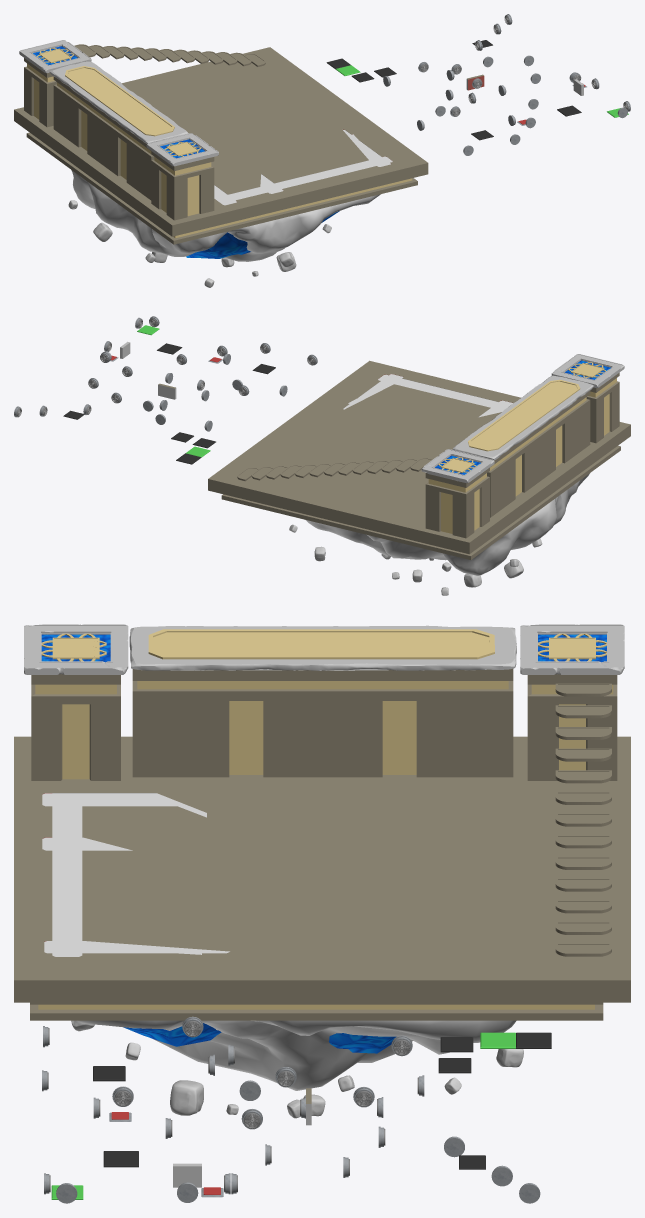
3 renders of one model, top to bottom at view 1: azimuth 30°, elevation 25°; view 2: azimuth 150°, elevation 25°; view 3: azimuth 270°, elevation 25°, orthographic. The views are drawn at different scales.
Parts seen in each view (by area): view 1: Cube.344_dmg.025, Cube.205_dmg.001, Cube.344_dmg.039, Cube.344_dmg.254; view 2: Cube.344_dmg.025, Cube.205_dmg.001, Cube.344_dmg.039, Cube.344_dmg.254; view 3: Cube.344_dmg.025, Cube.205_dmg.001, Cube.344_dmg.039, Cube.344_dmg.254.
Boxes of the visible parts, x1=… form: Cube.344_dmg.025: x1=14, y1=47, x2=428, y2=287; Cube.205_dmg.001: x1=19, y1=40, x2=218, y2=220; Cube.344_dmg.039: x1=74, y1=44, x2=265, y2=66; Cube.344_dmg.254: x1=214, y1=130, x2=392, y2=205; Cube.344_dmg.025: x1=208, y1=360, x2=630, y2=595; Cube.205_dmg.001: x1=421, y1=354, x2=624, y2=538; Cube.344_dmg.039: x1=237, y1=458, x2=432, y2=481; Cube.344_dmg.254: x1=343, y1=374, x2=512, y2=417; Cube.344_dmg.025: x1=14, y1=736, x2=630, y2=1118; Cube.205_dmg.001: x1=24, y1=624, x2=624, y2=780; Cube.344_dmg.039: x1=555, y1=683, x2=611, y2=956; Cube.344_dmg.254: x1=42, y1=793, x2=229, y2=956.
Bounding box in the file's own units: 8161 × 3353 × 4763.
